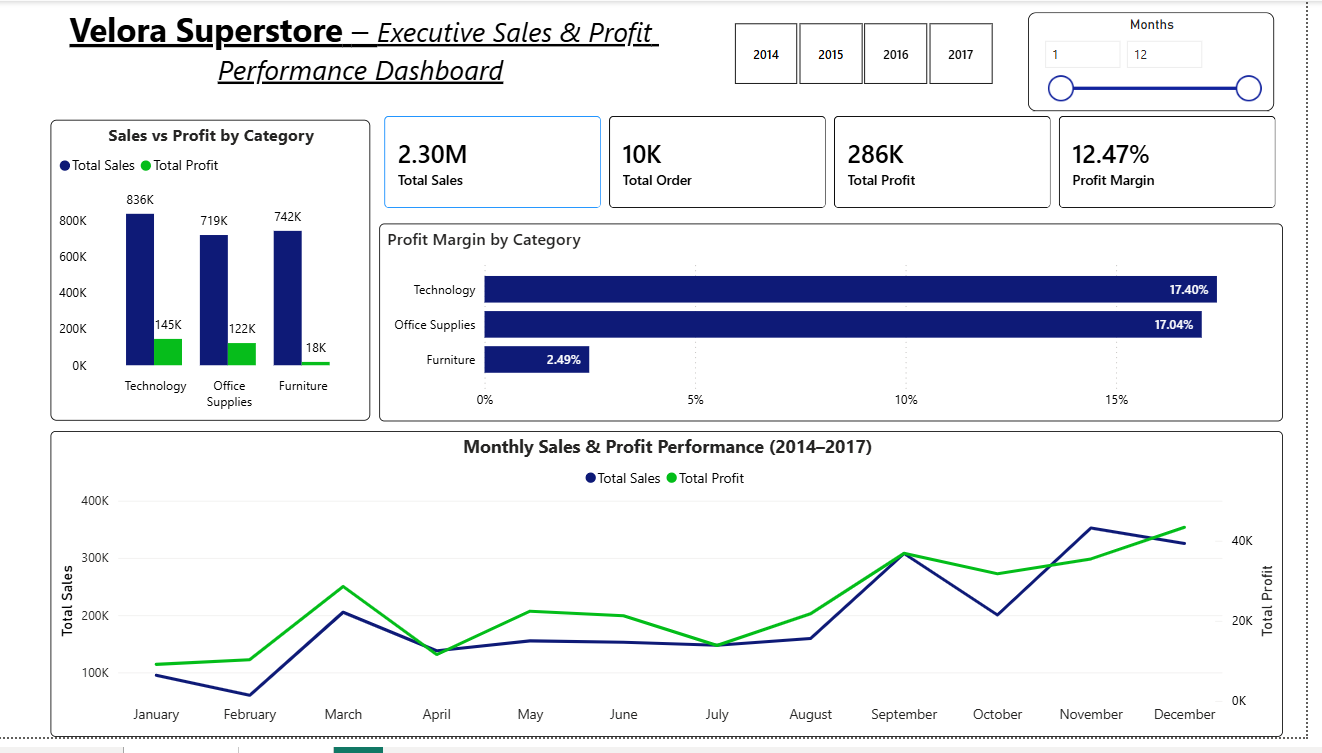

This screenshot's page, from the dashboard's own definition file:
{"tool":"powerbi","page":{"name":"Overview","canvas":[1280,720],"ordinal":0},"visuals":[{"type":"cardVisual","fields":{"Data":["Sheet1.Total Sales","Sheet1.Total Order","Sheet1.Total Profit","Sheet1.Profit Margin"]},"box":[373,107.6,884.1,100.3],"z":0},{"type":"textbox","box":[55,1.2,599.2,99],"z":1000},{"type":"slicer","title":"Months","fields":{"Values":["Date_Table.Month Number"]},"box":[1007.6,11,240.9,96.6],"z":2000},{"type":"areaChart","title":"Monthly Sales & Profit Performance (2014–2017)","fields":{"Y":["Sheet1.Total Sales"],"Y2":["Sheet1.Total Profit"],"Category":["Date_Table.Date.Variation.Date Hierarchy.Month"]},"box":[51.4,420.7,1205.7,299.6],"z":3000},{"type":"clusteredColumnChart","title":"Sales vs Profit by Category","fields":{"Category":["Sheet1.Category"],"Y":["Sheet1.Total Sales","Sheet1.Total Profit"]},"box":[51.4,116.2,313,294.7],"z":5000},{"type":"barChart","fields":{"Category":["Sheet1.Category"],"Y":["Sheet1.Profit Margin"]},"box":[373,217.7,884.1,193.2],"z":6000},{"type":"slicer","fields":{"Values":["Date_Table.Year"]},"box":[694.6,14.7,302,73.4],"z":7000}]}

Visuals, with their boxes in screenshot pixels (x1, y1, x2, y2), scaled from the page's 1280x720 canvas onto the 1322x753 screenshot:
cardVisual - Sheet1.Total Sales x Sheet1.Total Order: 385 113 1298 217
textbox: 57 1 676 105
"Months" slicer: 1041 12 1289 113
"Monthly Sales & Profit Performance (2014–2017)" areaChart: 53 440 1298 752
"Sales vs Profit by Category" clusteredColumnChart: 53 122 376 430
barChart - Sheet1.Category x Sheet1.Profit Margin: 385 228 1298 430
slicer - Date_Table.Year: 717 15 1029 92
